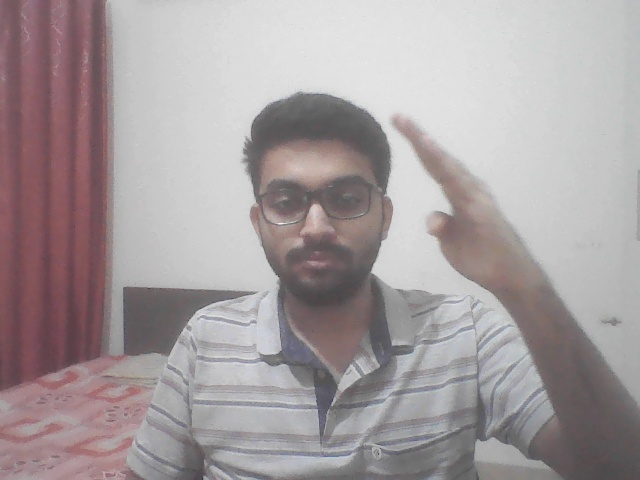hello: (352, 99, 557, 340)
